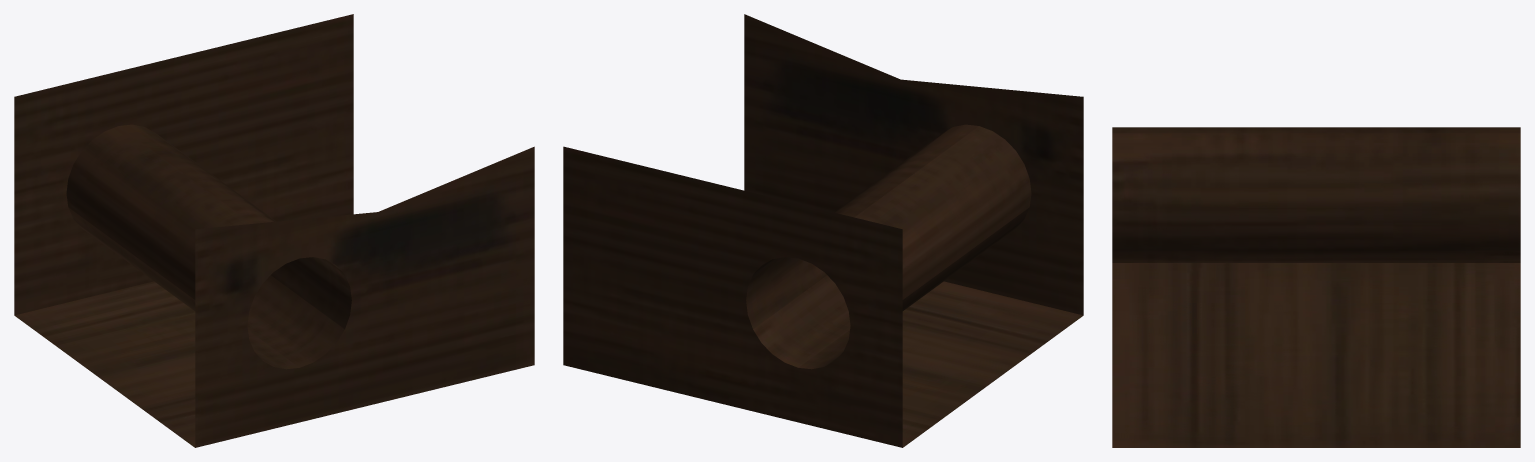
The model's file is link_8__back_panel-23.glb.
3 renders of one model, left to right at view 1: azimuth 30°, elevation 25°; view 2: azimuth 150°, elevation 25°; view 3: azimuth 270°, elevation 25°, orthographic. The views are drawn at different scales.
Parts seen in each view (by area): view 1: world; view 2: world; view 3: world.
Boxes of the visible parts, x1,y1,x2,y2 form: world: (14,14,534,447); world: (563,14,1083,447); world: (1112,127,1520,447).
Size of the model in its own units: 0.1365 by 0.084 by 0.126.
1 material, 1 textured.
